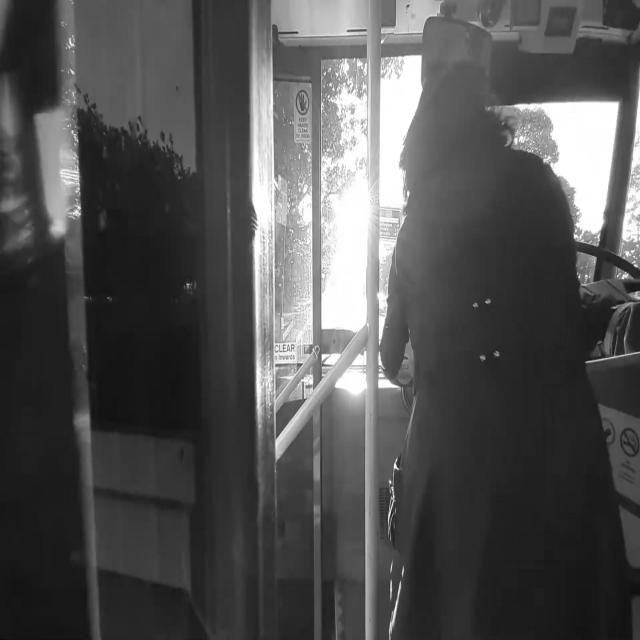bus-door: (68, 0, 328, 640)
